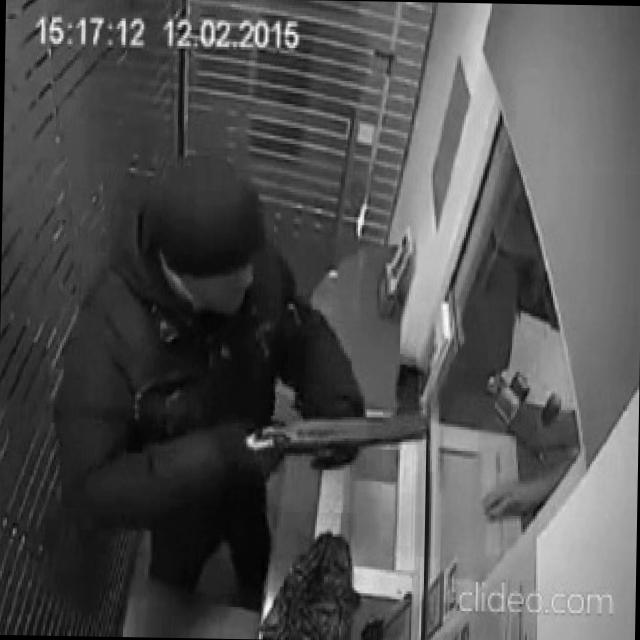gun: (238, 406, 432, 464)
person with a gun: (48, 144, 436, 621)
